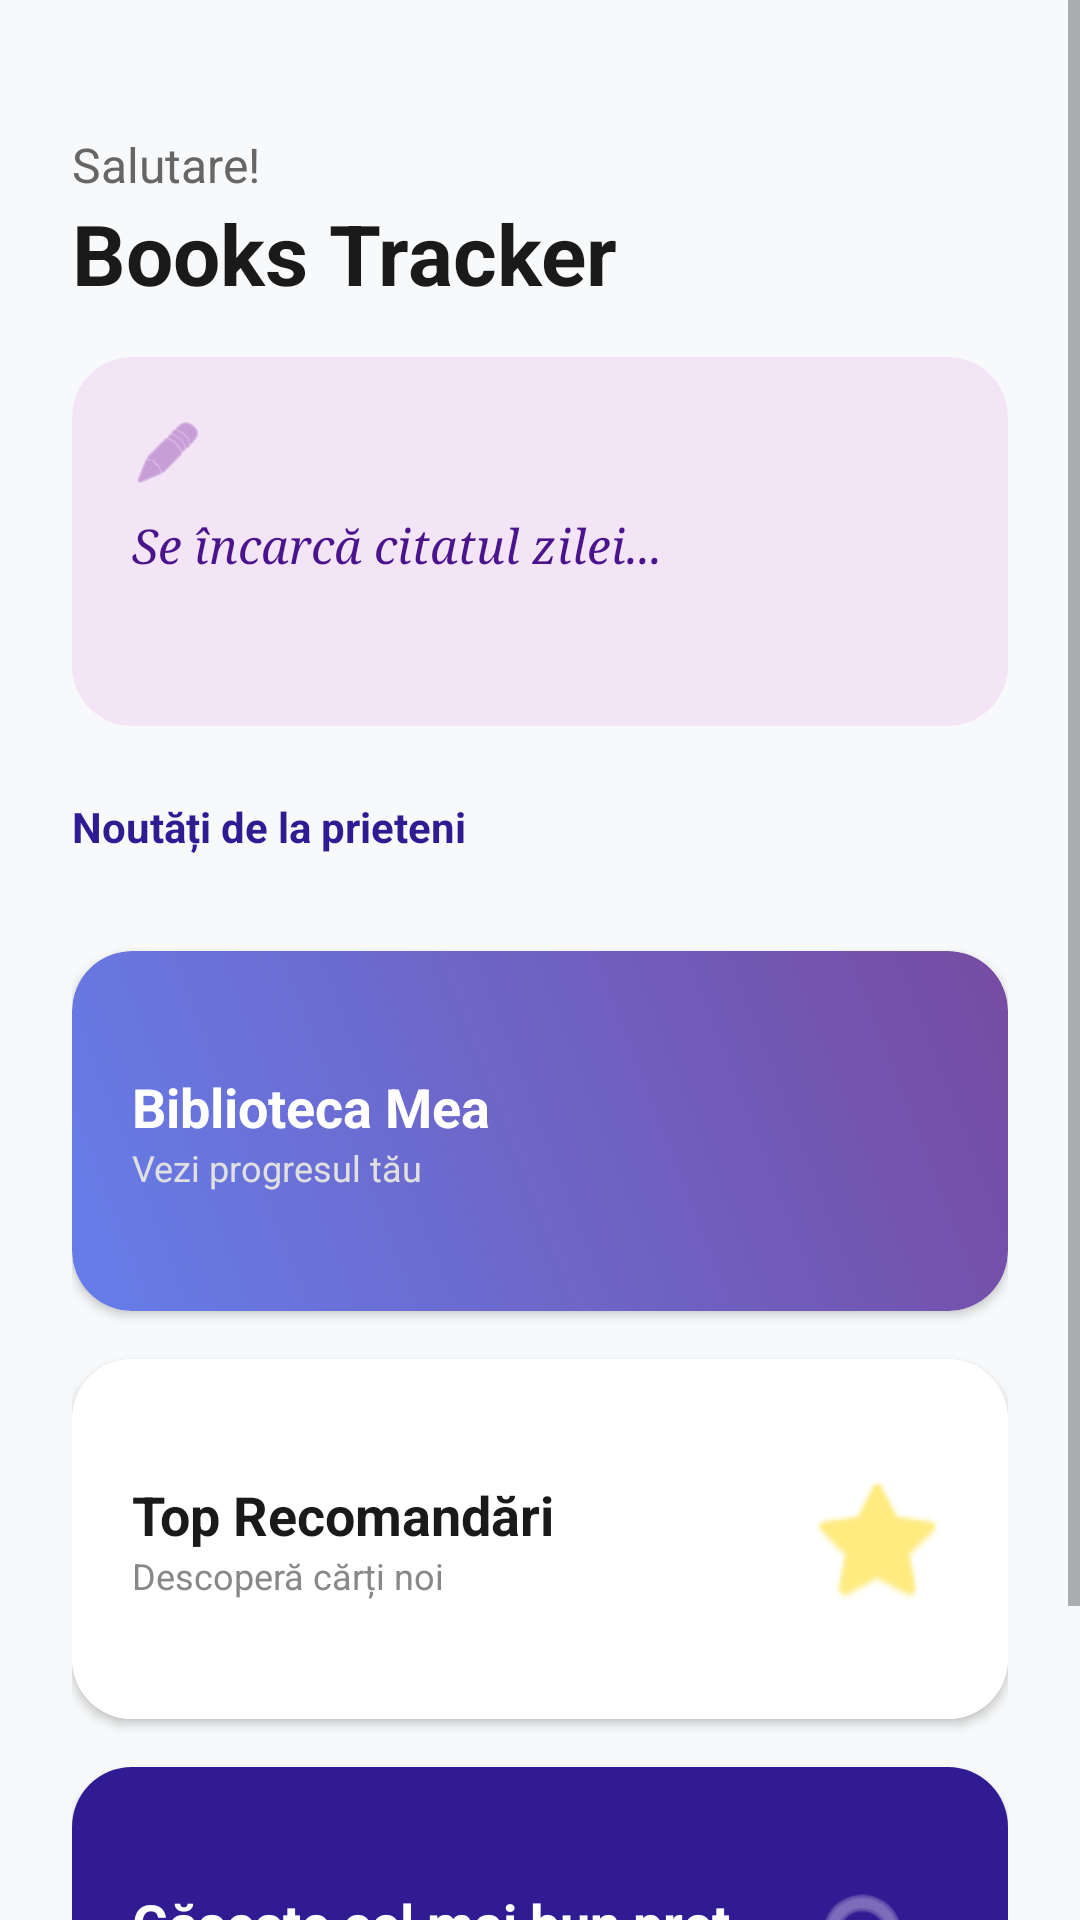

Icon bounding boxes for this 1080 x 1920 phone screenshot, format {"x1": x1, "y1": y1, "x2": x2, "y2": y2}:
edit: {"x1": 138, "y1": 422, "x2": 198, "y2": 483}
star on: {"x1": 818, "y1": 1482, "x2": 937, "y2": 1597}
